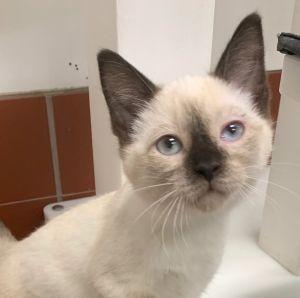siamese: (93, 7, 287, 229)
